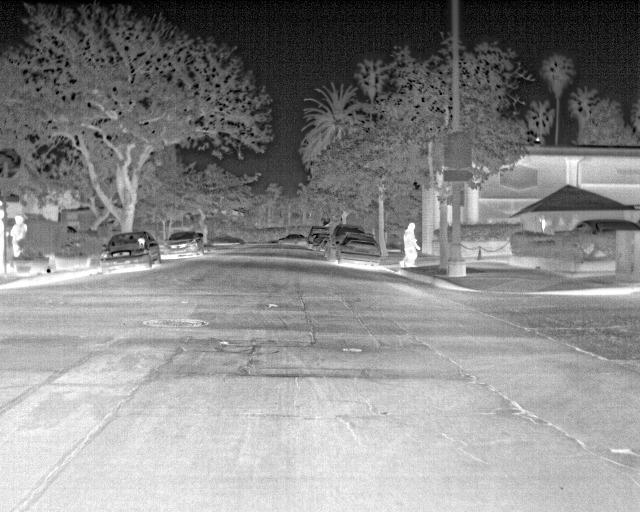bicycle: (97, 229, 161, 273), (337, 235, 381, 267), (329, 224, 364, 258), (570, 218, 638, 233), (165, 232, 202, 258), (305, 225, 328, 245), (312, 234, 330, 251)
empty: (398, 222, 420, 268), (9, 213, 28, 258)
